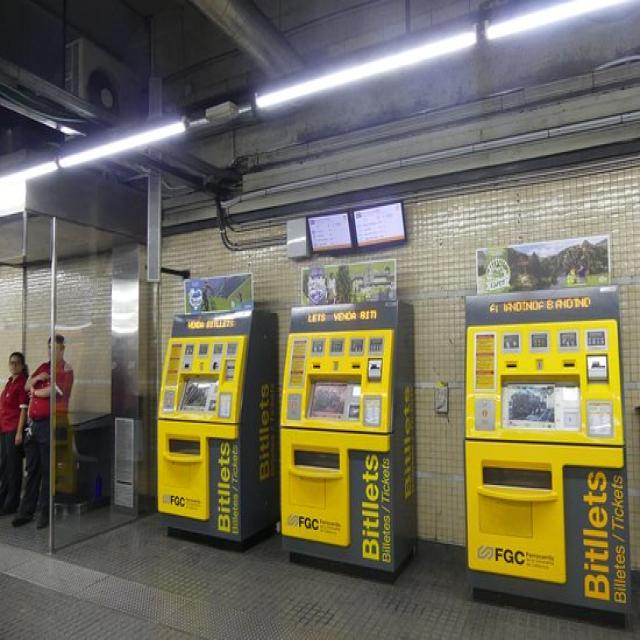tickets-maquina: (465, 289, 631, 613), (281, 301, 416, 578), (159, 310, 280, 544)
